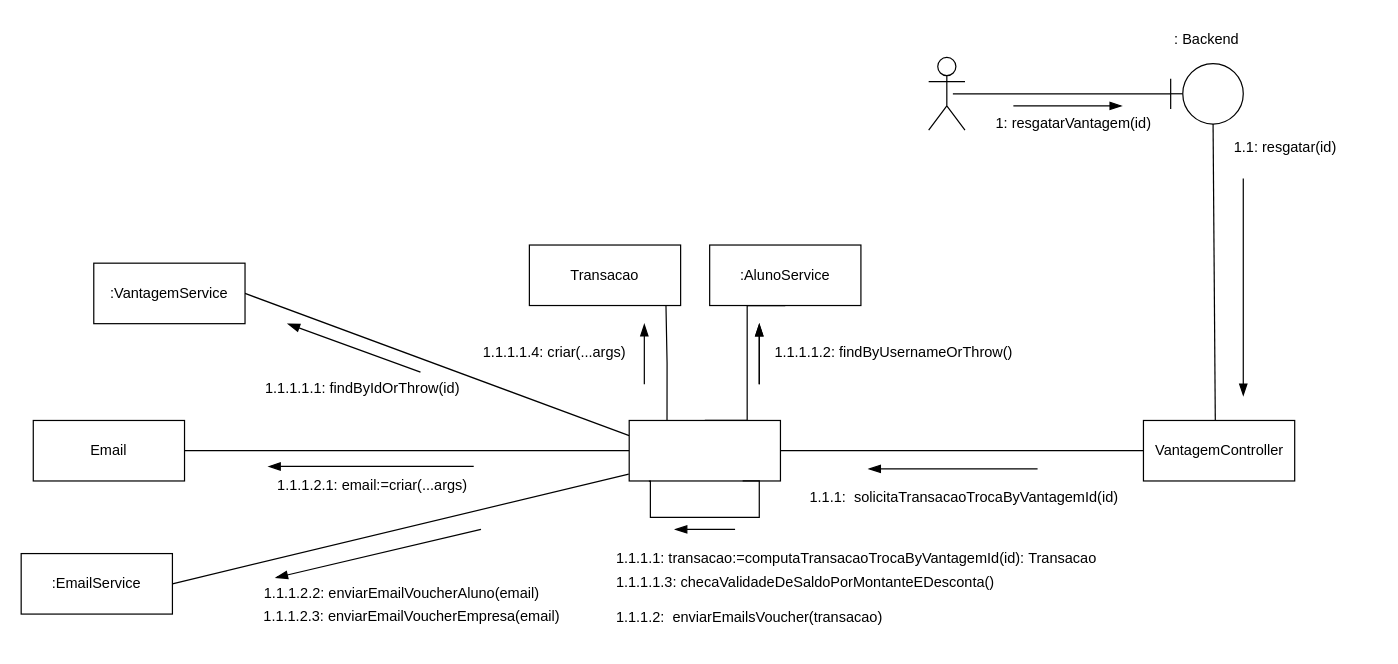
Some shapes in this 1398 by 664 pixel diagram are drawn without their labels. The centre of each missing label's shape, as x and y in pixels:
:TransacaoService: (704,450)
Aluno: (946,93)
